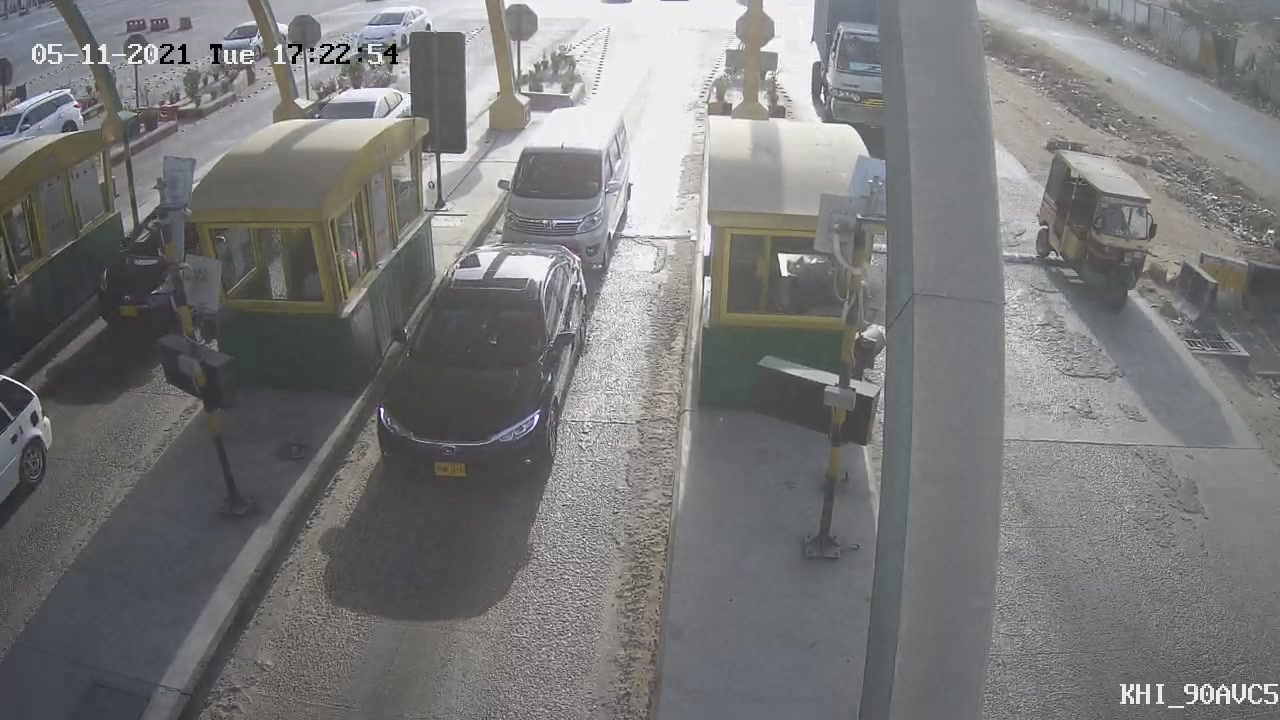F1: (361, 238, 597, 485), (476, 92, 642, 274)
